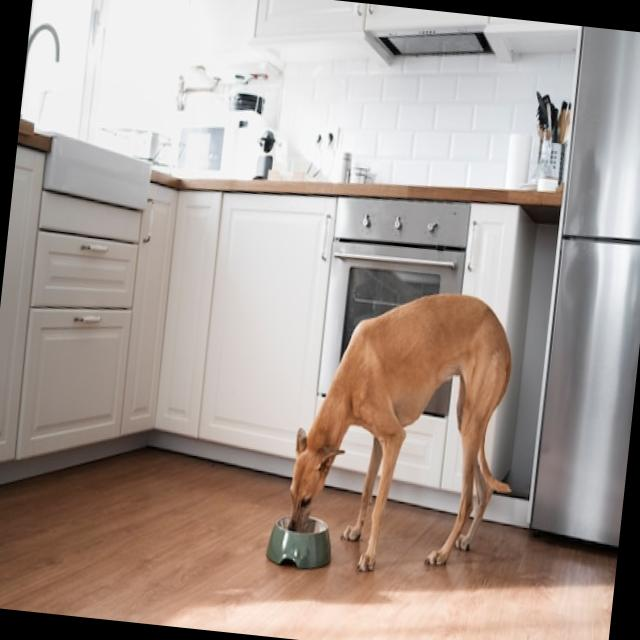Dog: (284, 278, 530, 585)
